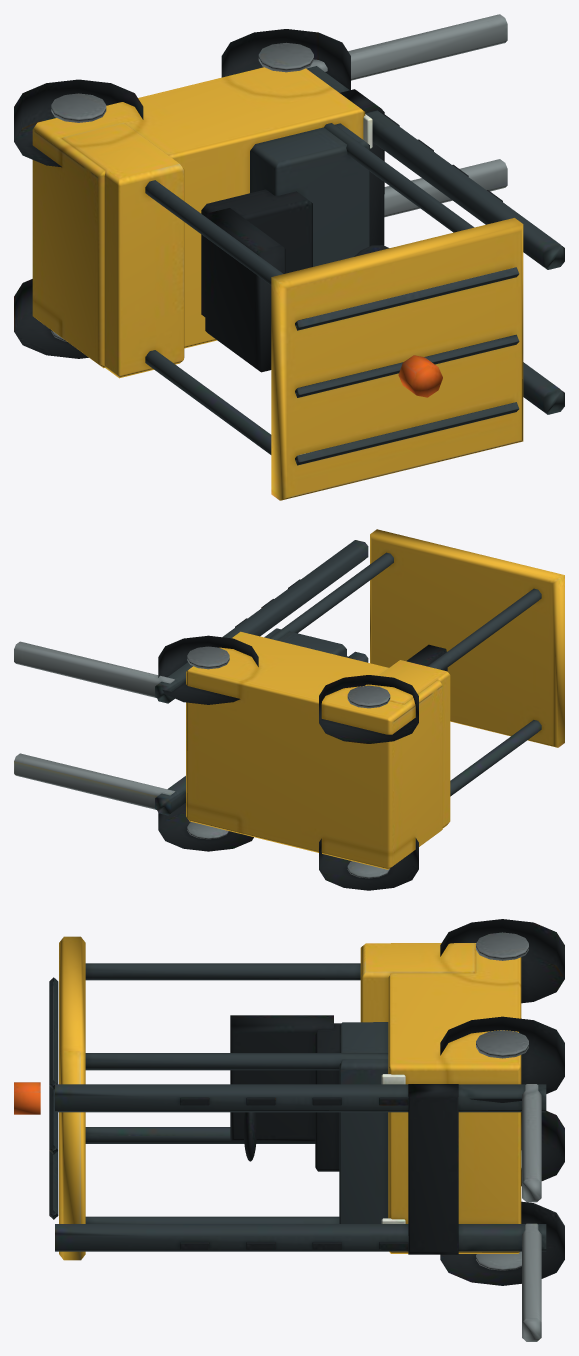
The model's file is forklift.obj.
3 views of the same model, one above another, from view 1: azimuth 30°, elevation 25°; view 2: azimuth 150°, elevation 25°; view 3: azimuth 270°, elevation 25° (orthographic). The views are drawn at different scales.
Parts seen in each view (by area): view 1: forklift; view 2: forklift; view 3: forklift.
Boxes of the visible parts, x1,y1,x2,y2 form: forklift: (14,14,564,500); forklift: (14,529,564,890); forklift: (14,919,564,1341).
Bounding box in the file's own units: 2.08 × 0.9142 × 2.07.
Materials: 3 (3 with a texture image).
